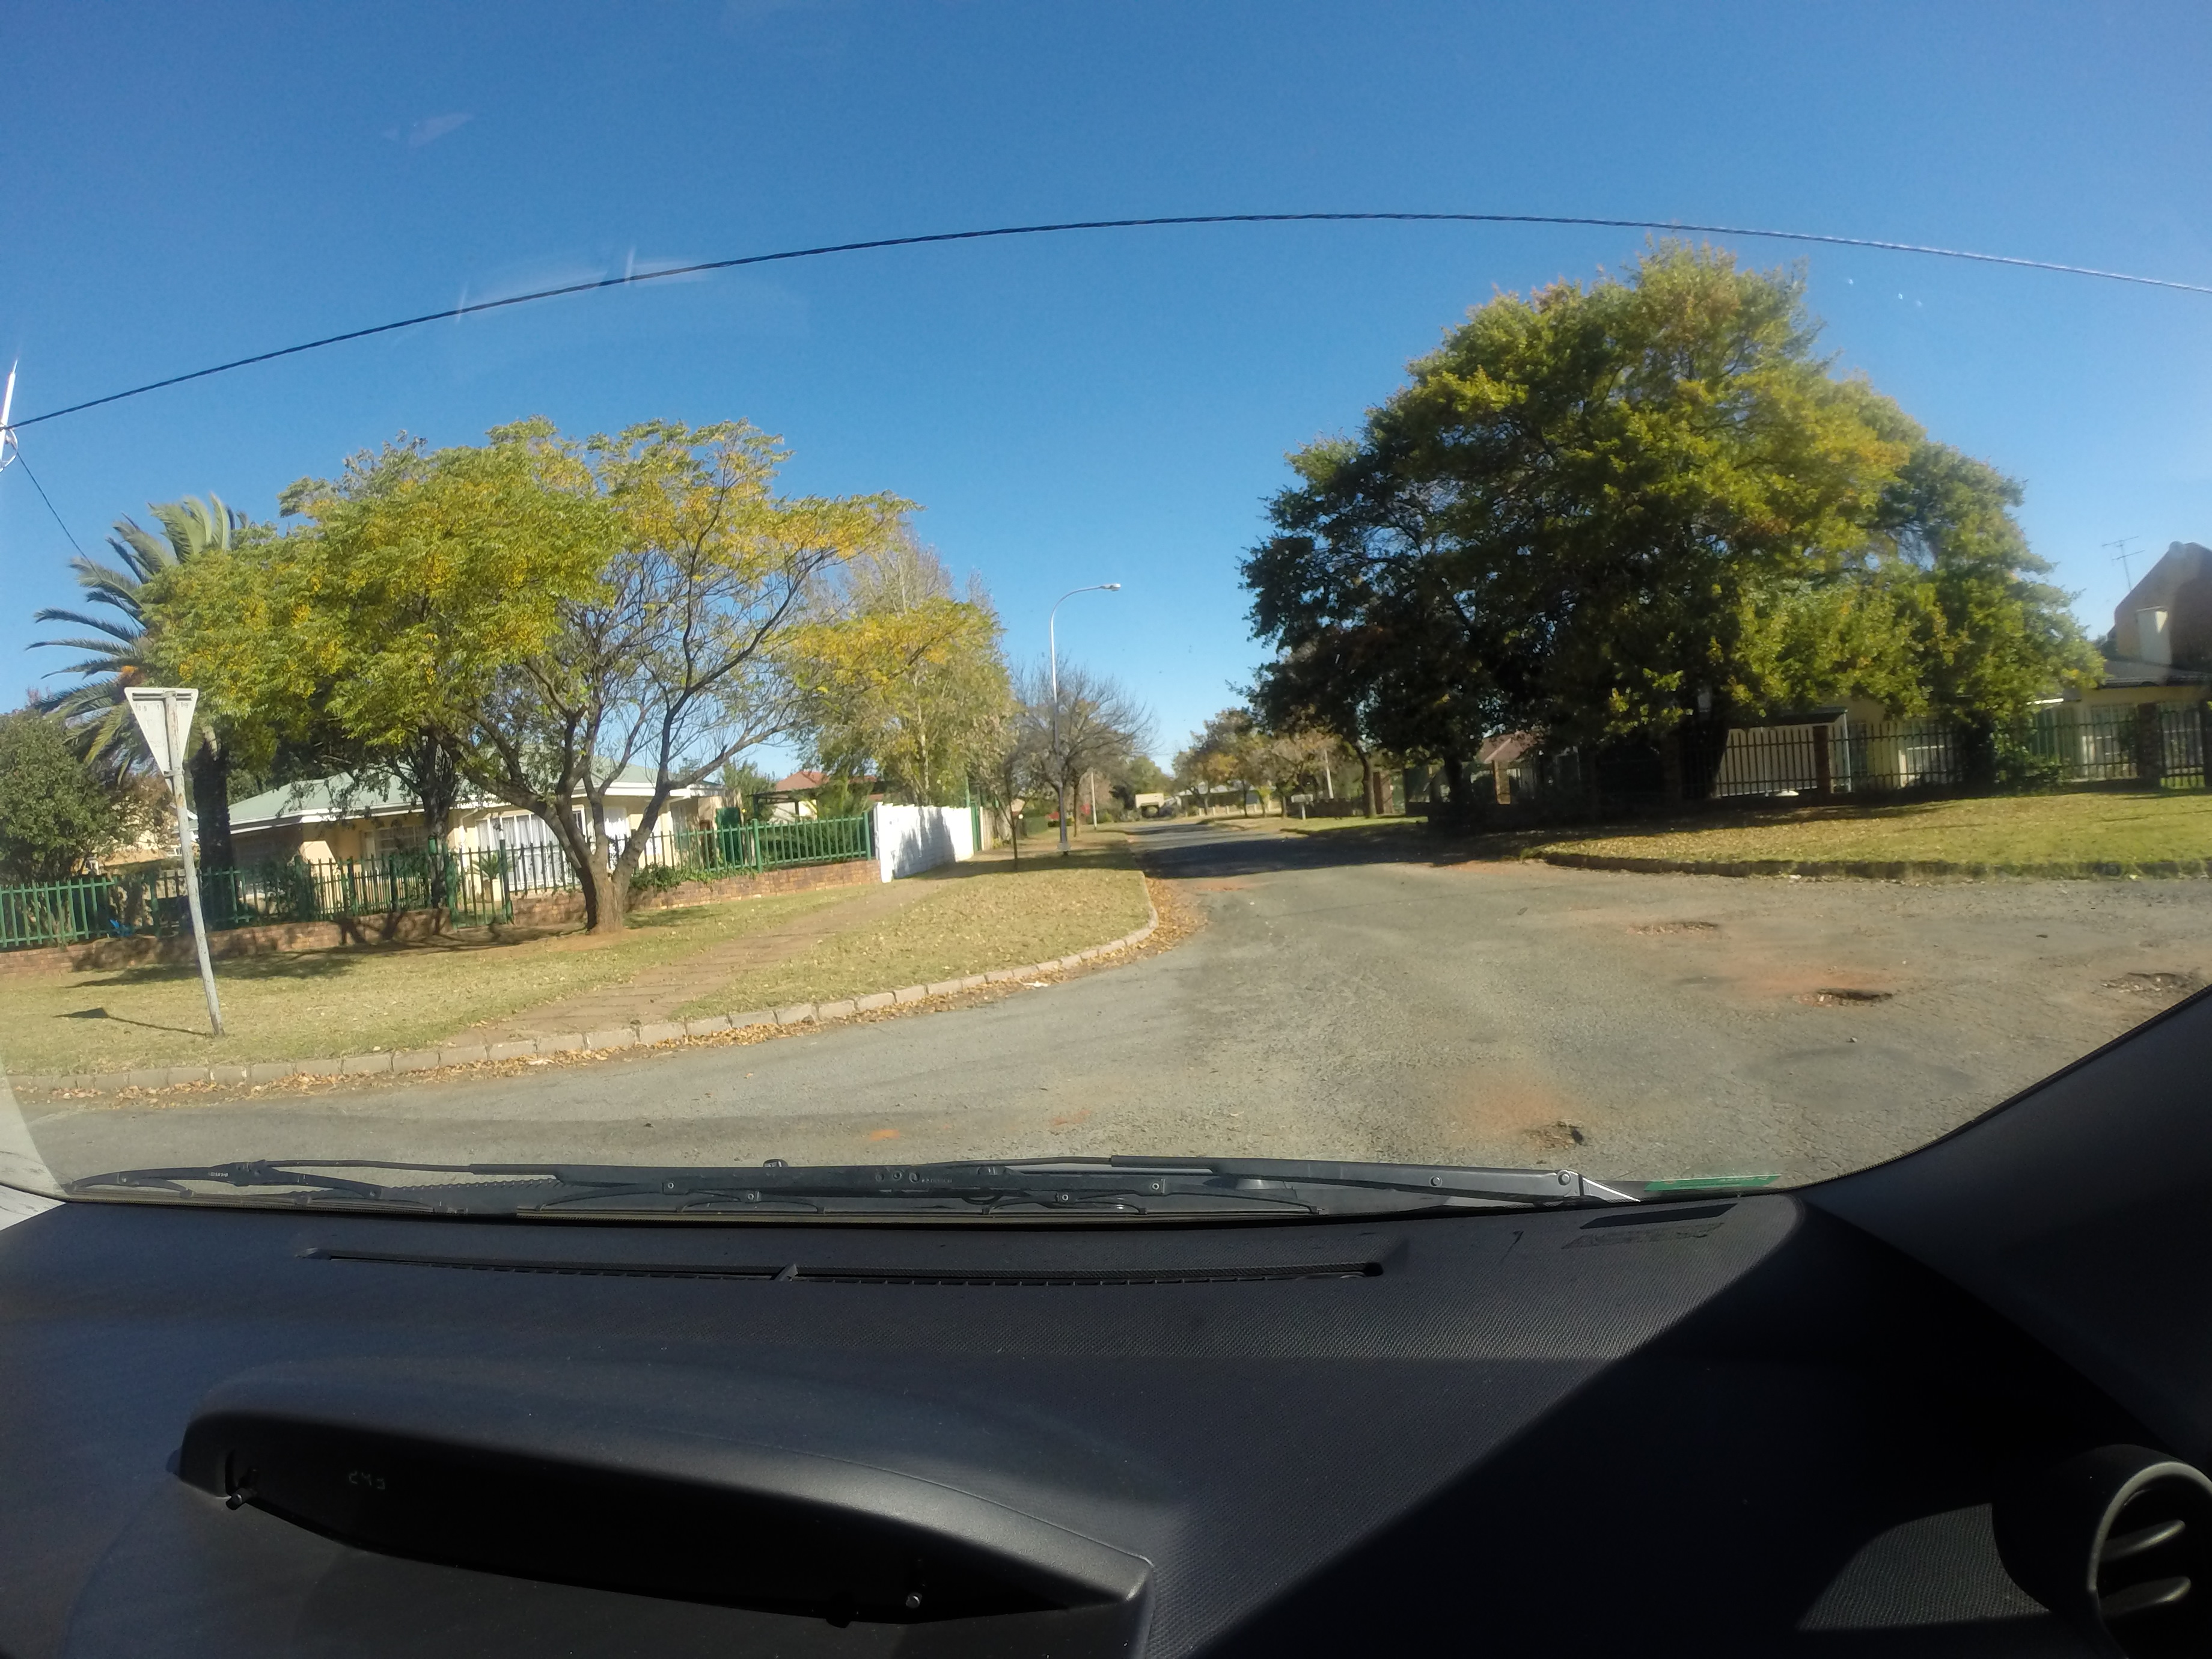pothole: (1606, 882, 1738, 995), (1480, 1087, 1613, 1164), (2107, 945, 2212, 1018), (1806, 955, 1904, 1025)
